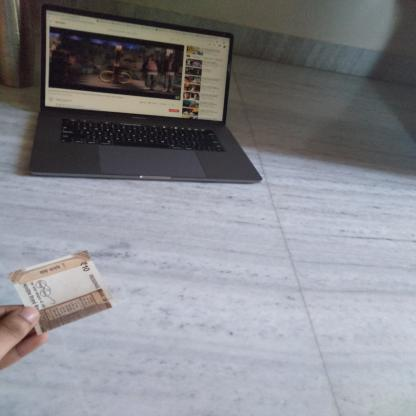New10Back: (15, 248, 109, 332)
